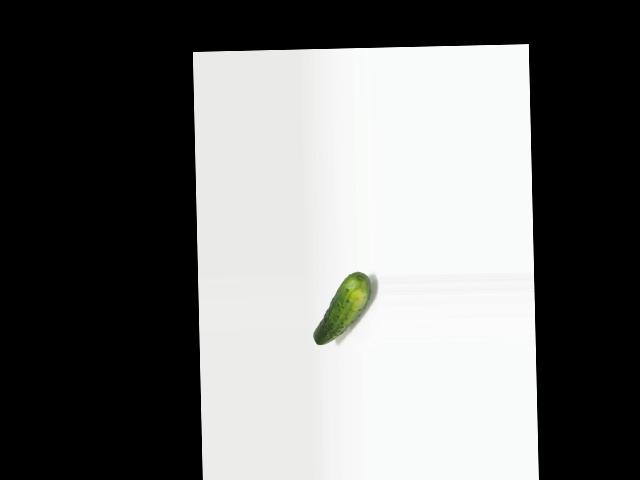cucumber: (312, 272, 371, 345)
